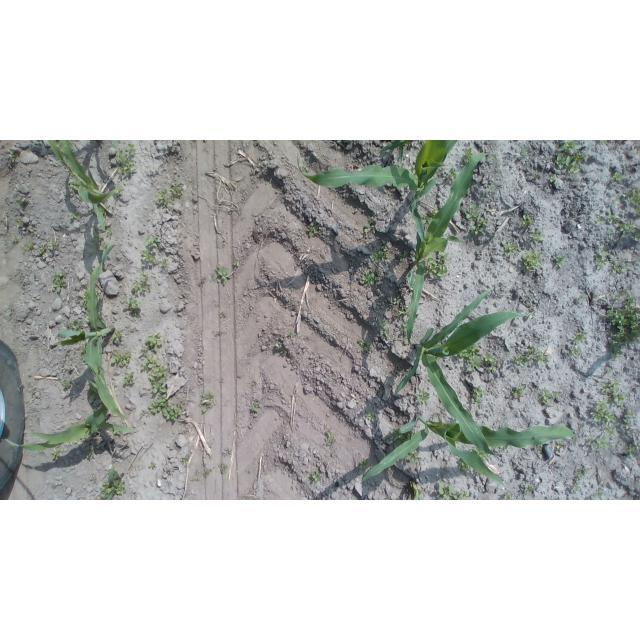Maize: (394, 289, 531, 456), (406, 152, 498, 345), (296, 141, 458, 241), (360, 413, 574, 488), (55, 243, 128, 421), (3, 380, 137, 452), (45, 141, 124, 231)
Weeds: (137, 331, 183, 423), (605, 296, 640, 358), (451, 340, 497, 374), (596, 215, 640, 241), (556, 141, 588, 174), (100, 468, 128, 499), (143, 236, 170, 268), (585, 426, 617, 450), (467, 205, 492, 235), (115, 143, 137, 177), (423, 251, 450, 278), (437, 480, 472, 500), (458, 447, 487, 470), (602, 382, 627, 406), (568, 331, 588, 360), (158, 185, 183, 208), (514, 351, 547, 365), (592, 405, 617, 423), (108, 349, 133, 367), (124, 298, 145, 319), (370, 245, 393, 263), (131, 275, 151, 293), (522, 252, 540, 272), (472, 386, 486, 409), (391, 295, 405, 318), (539, 392, 561, 406), (216, 267, 234, 284), (572, 468, 588, 487), (621, 410, 635, 431), (24, 243, 56, 252), (202, 394, 215, 415), (53, 272, 66, 293), (629, 190, 640, 213), (611, 262, 632, 274), (504, 242, 520, 257), (417, 390, 431, 407), (324, 429, 337, 447), (359, 270, 375, 284), (595, 252, 608, 268), (364, 219, 376, 235), (528, 229, 544, 241), (551, 256, 568, 267), (627, 445, 640, 459), (111, 331, 124, 344), (123, 372, 136, 385), (511, 385, 525, 397), (357, 341, 372, 352), (380, 321, 389, 339), (519, 215, 533, 225), (50, 448, 60, 461), (68, 212, 84, 220), (519, 482, 533, 491), (305, 225, 317, 235), (359, 459, 369, 470), (310, 471, 319, 483), (614, 172, 623, 184), (500, 493, 514, 500), (10, 148, 17, 162), (519, 146, 529, 155), (223, 448, 232, 457), (368, 411, 377, 420), (252, 402, 260, 412), (399, 252, 406, 263), (219, 465, 227, 474), (232, 258, 241, 266), (550, 174, 557, 183), (112, 141, 119, 148)
